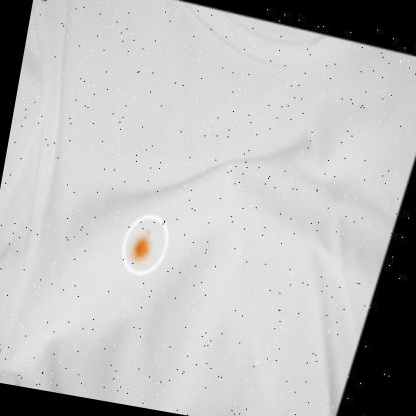kimchi: (130, 229, 159, 263)
